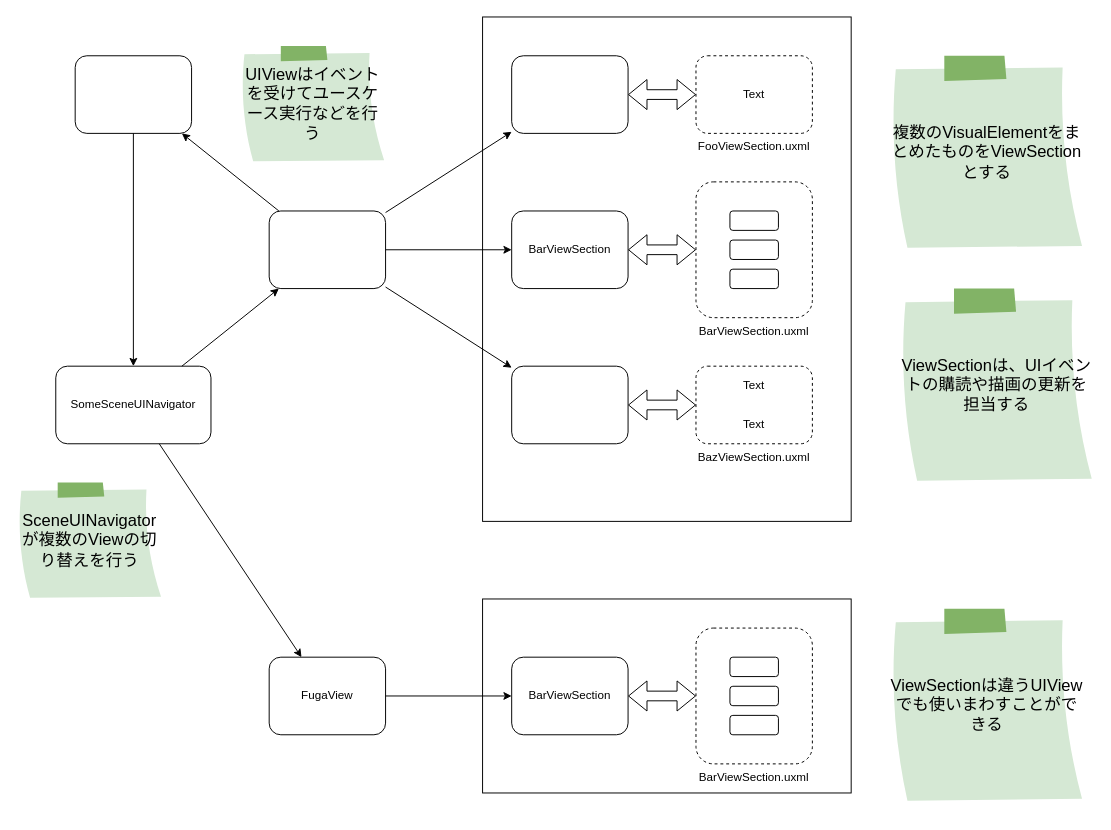
Image size: 1111x830. Some labels were removed from this diagram. The shapes that lost their labels are listed below. From the top down, each one's box as (x1, y1, x2, y2) in pixels, then its label:
(74, 55, 192, 133): 各種UseCase
(511, 55, 628, 133): FooViewSection
(268, 210, 386, 289): HogeView
(482, 16, 851, 521): HogeView.uxml
(511, 365, 628, 444): BazViewSection
(482, 598, 851, 793): FugaView.uxml
